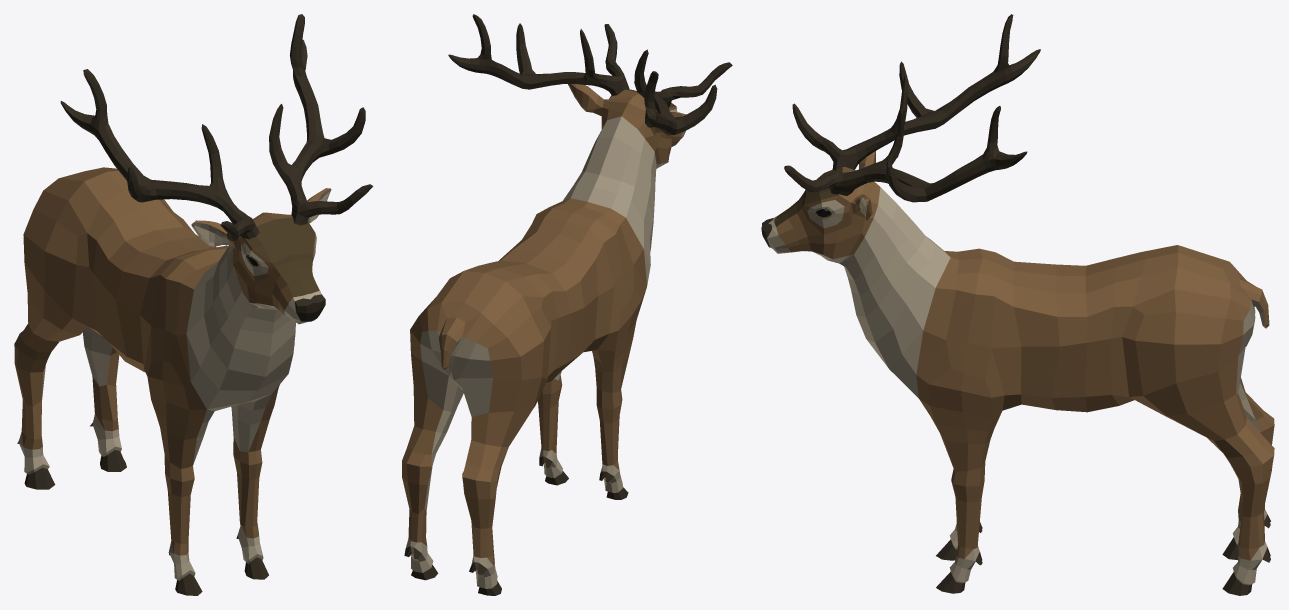
File: Stag.glb
3 renders of one model, left to right at view 1: azimuth 30°, elevation 25°; view 2: azimuth 150°, elevation 25°; view 3: azimuth 270°, elevation 25°, orthographic. The views are drawn at different scales.
Parts seen in each view (by area): view 1: Stag_Cube; view 2: Stag_Cube; view 3: Stag_Cube.
Part boxes in pixels (box(x1,y1,x2,y2)): Stag_Cube: box(14, 14, 373, 595); Stag_Cube: box(402, 14, 732, 595); Stag_Cube: box(761, 14, 1274, 595).
Size of the model in its own units: 2.56 by 5.37 by 4.85.
1 material, 1 textured.
